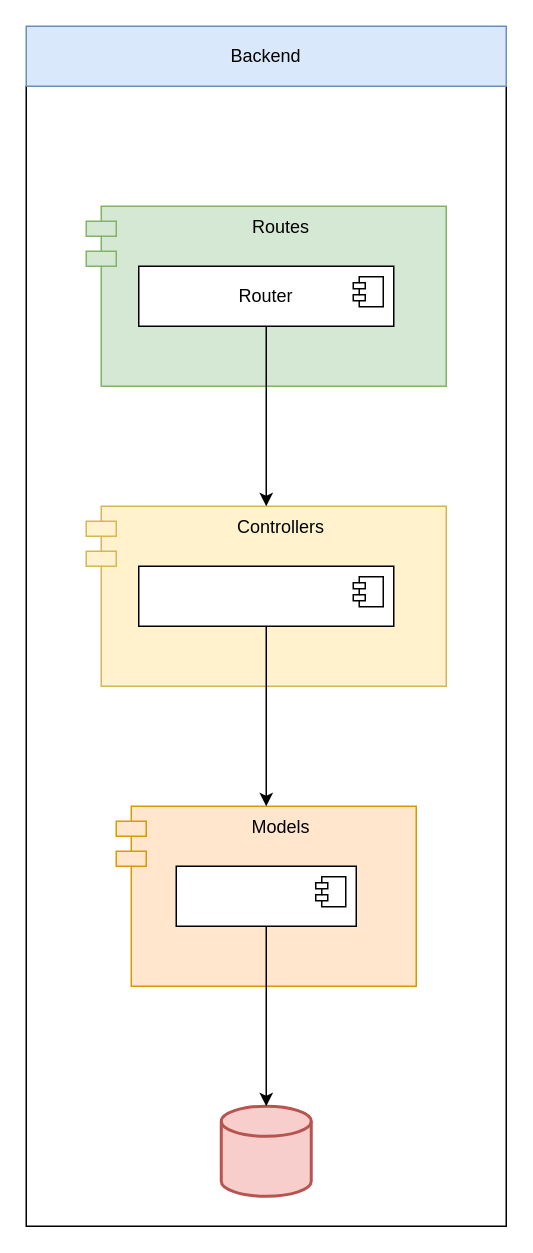
Some shapes in this 533 by 1253 pixel diagram are drawn without their labels. The centre of each missing label's shape, as x and y in pixels:
"User" goes at pixel 265 895.
"UserController" goes at pixel 265 595.
